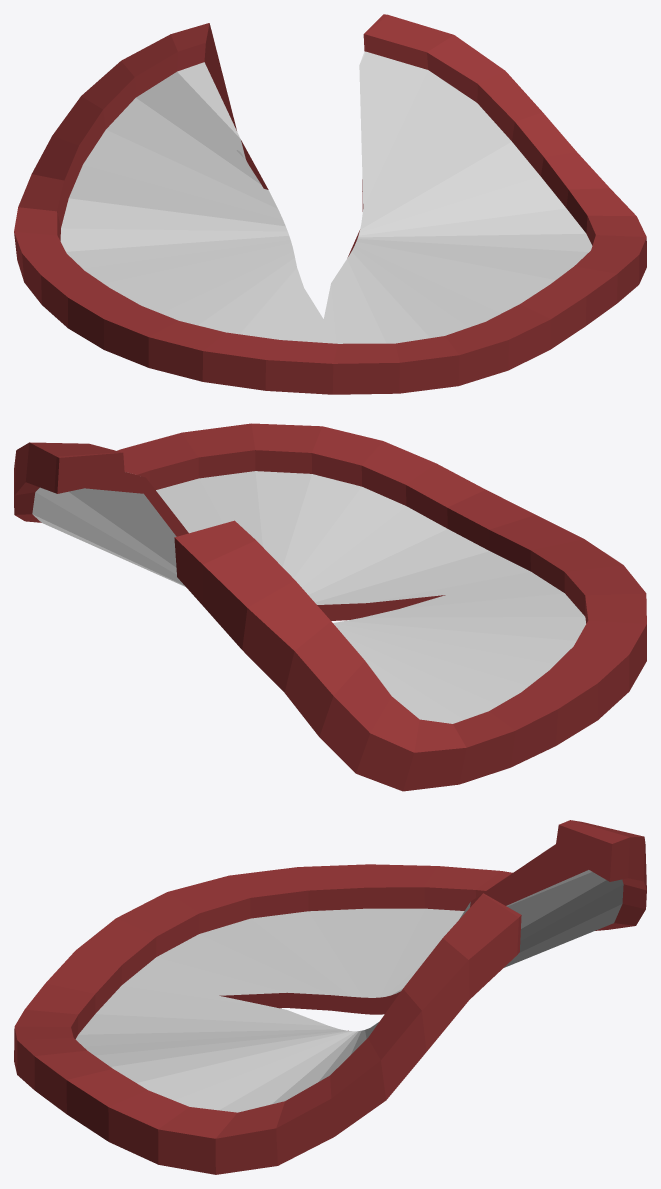
Rendered from 破损标识 (1).fbx.
3 views of the same model, one above another, from view 1: azimuth 30°, elevation 25°; view 2: azimuth 150°, elevation 25°; view 3: azimuth 270°, elevation 25° (orthographic). The views are drawn at different scales.
Visible parts, largest first — view 1: Cylinder.027; view 2: Cylinder.027; view 3: Cylinder.027.
Part boxes in pixels (x1=…): Cylinder.027: x1=14, y1=14, x2=646, y2=394; Cylinder.027: x1=14, y1=423, x2=646, y2=791; Cylinder.027: x1=14, y1=820, x2=646, y2=1174.
Size of the model in its own units: 1.83 by 0.6384 by 1.73.
